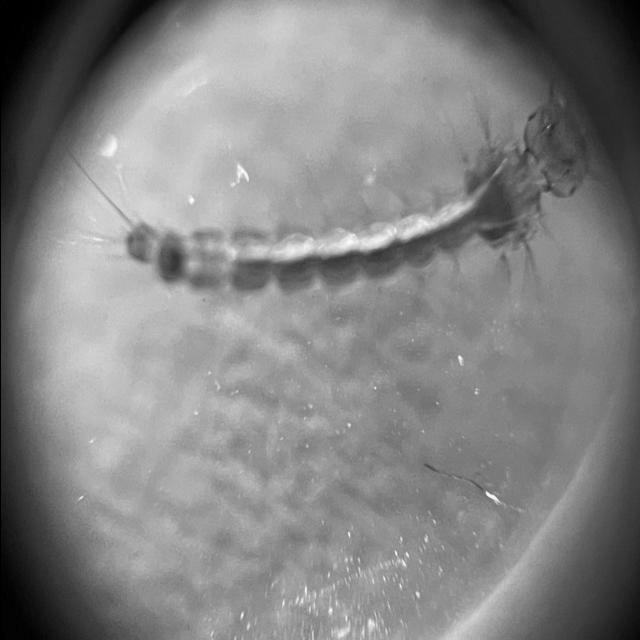larvas: (130, 94, 590, 288)
